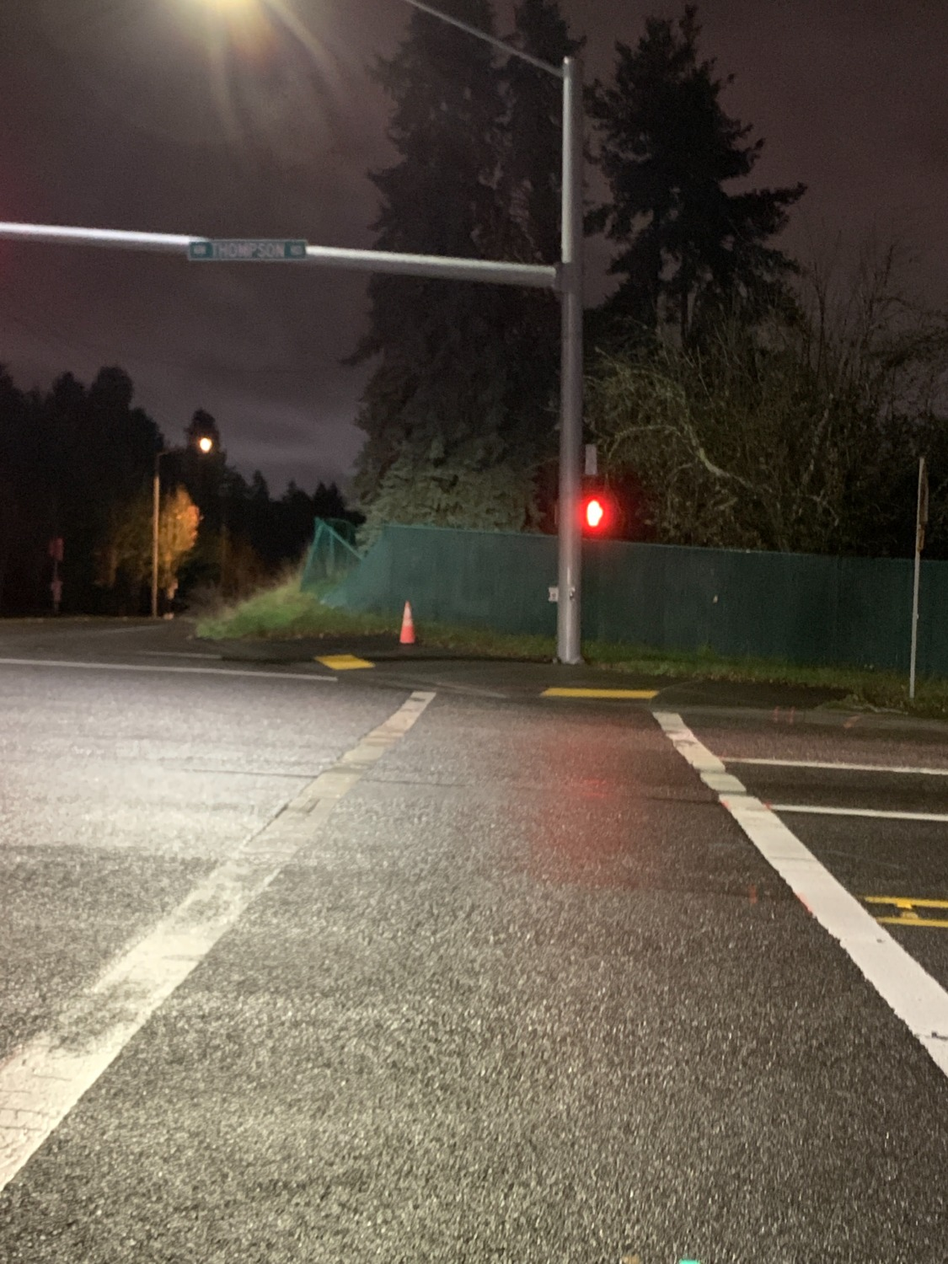crosswalk: (0, 708, 947, 1263)
pedestrian_stop: (578, 494, 616, 534)
pole: (307, 58, 583, 664), (0, 223, 161, 244)
